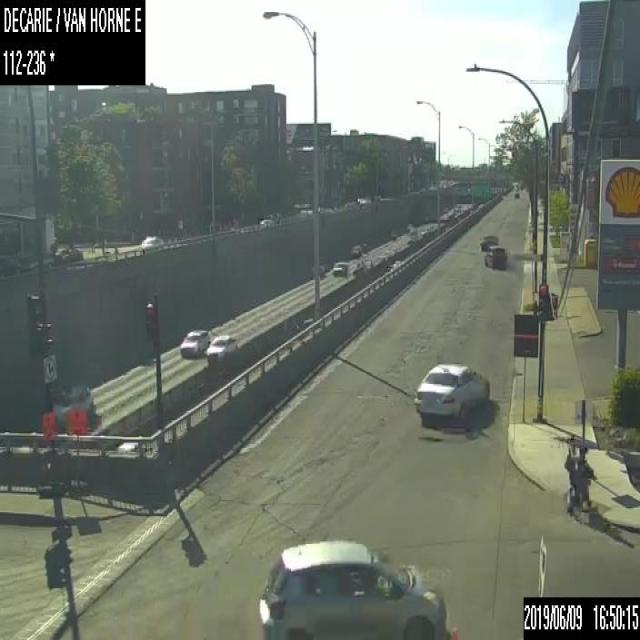construction: (39, 408, 64, 496), (64, 406, 87, 493), (575, 399, 592, 474)
pedestrian: (574, 443, 594, 513), (564, 443, 576, 514)
vehicle: (258, 537, 448, 639), (413, 361, 491, 419), (42, 383, 94, 430), (180, 328, 209, 356), (206, 335, 237, 361), (0, 251, 35, 273), (484, 245, 507, 267), (56, 246, 82, 260), (479, 233, 497, 250), (331, 261, 349, 276), (140, 233, 161, 244), (349, 244, 361, 256), (311, 265, 324, 276), (513, 190, 518, 197)
